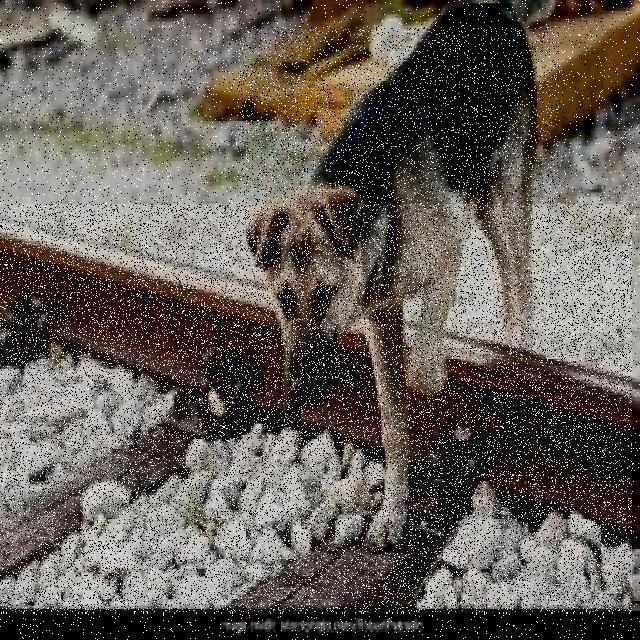rail: (2, 206, 633, 614)
